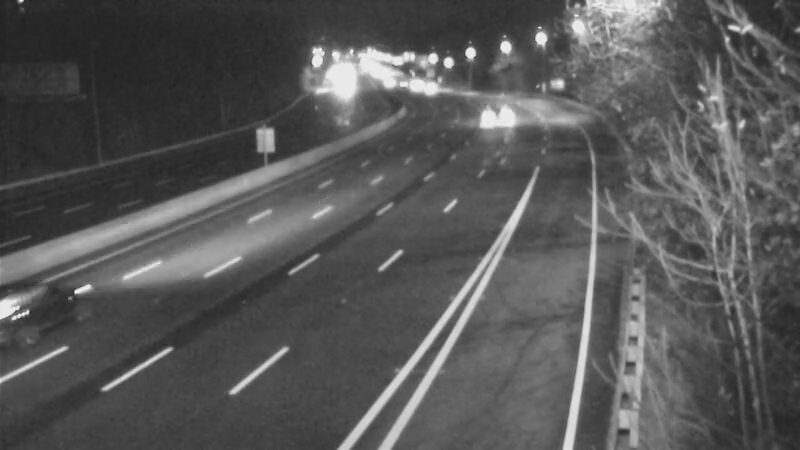vehicle: (1, 258, 96, 368), (401, 64, 451, 114), (468, 89, 518, 139)
